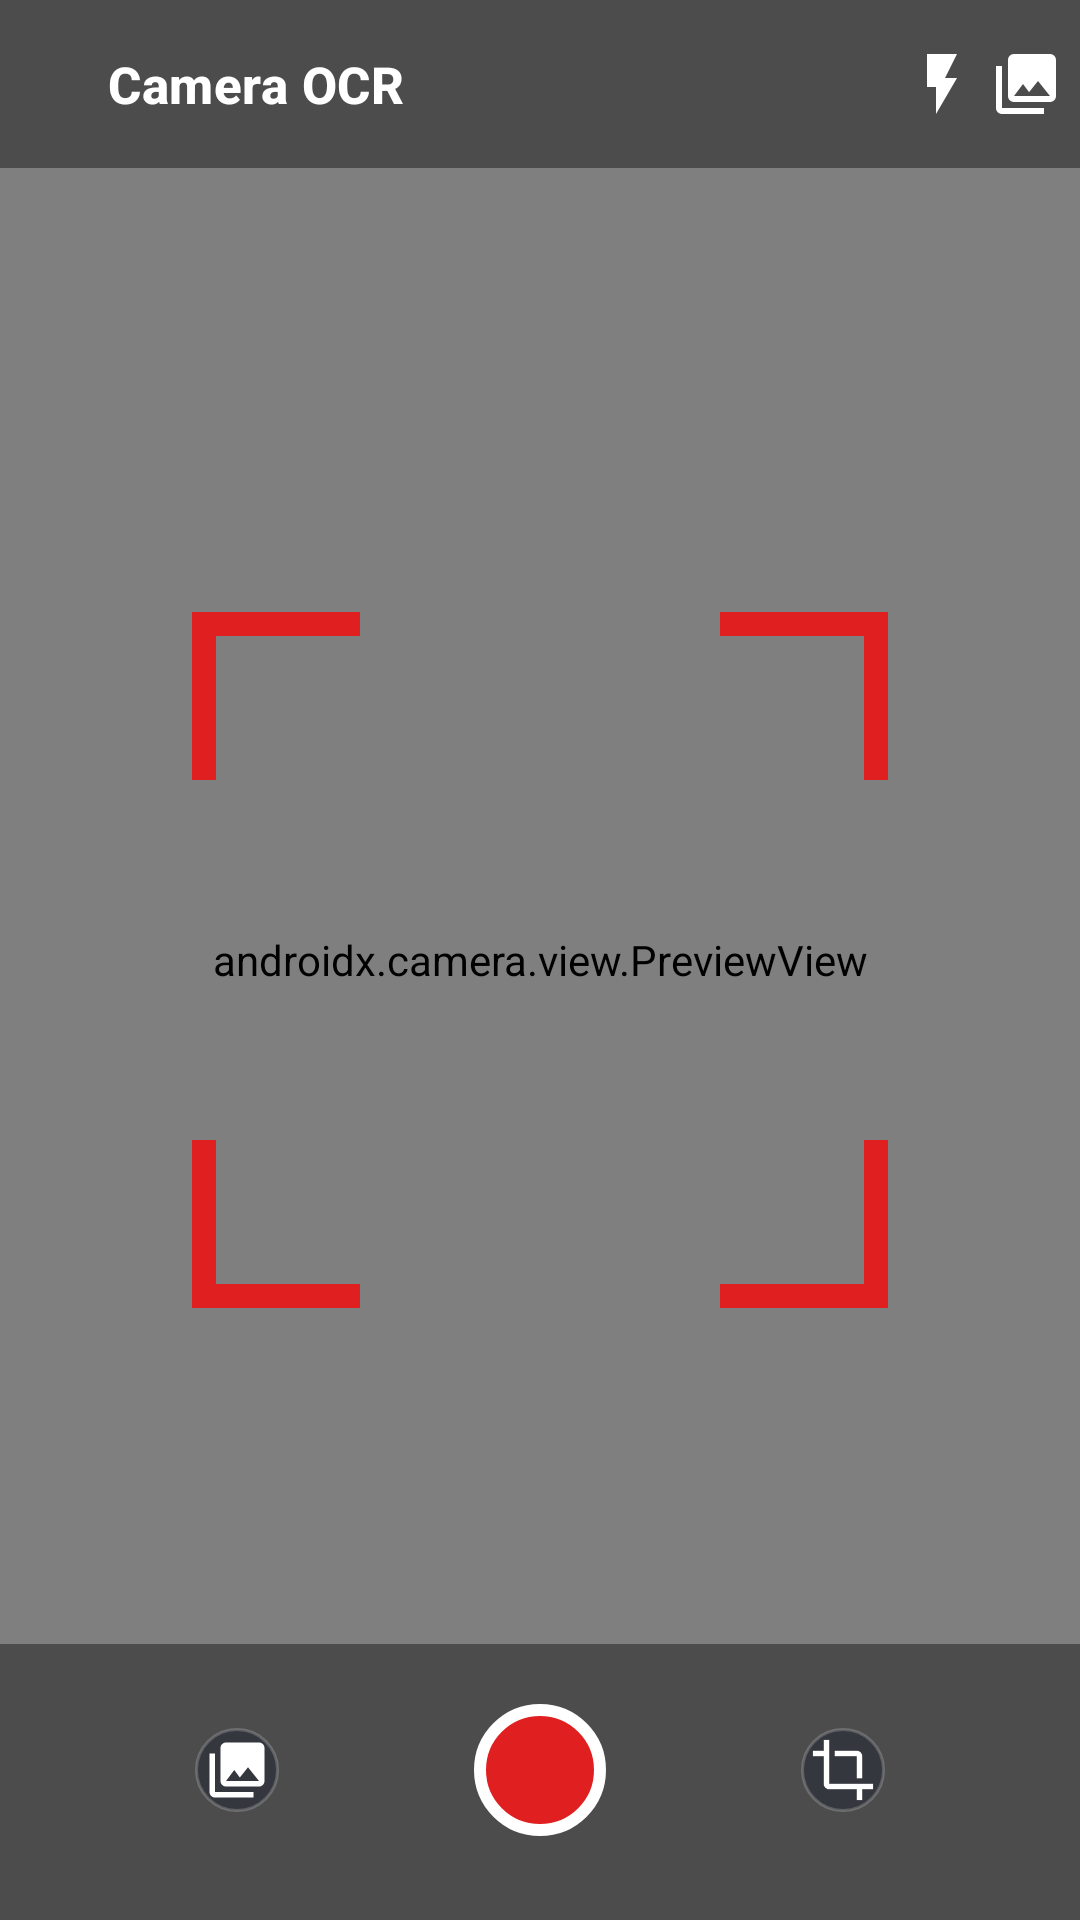

Where to tap for icons on this 1080 x 1920 app screen, as (x=x, y=y):
Flash: (x=942, y=84)
Gallery: (x=1026, y=84), (x=237, y=1770)
